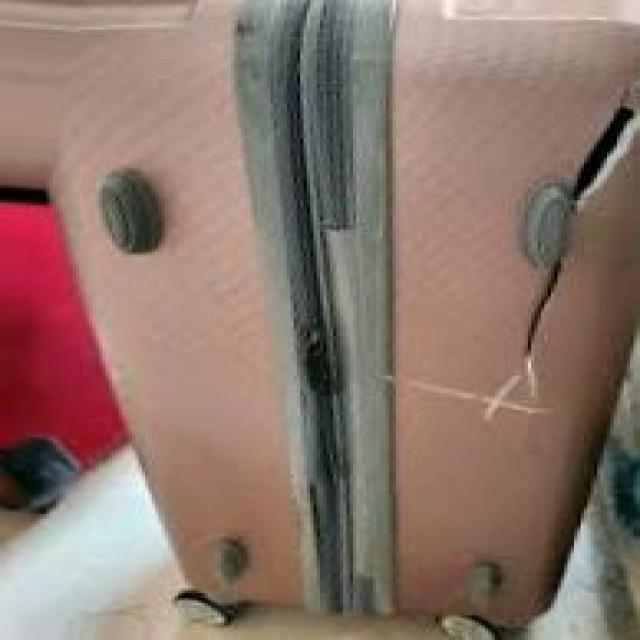Damage-bag: (571, 106, 635, 212), (526, 259, 561, 352)
